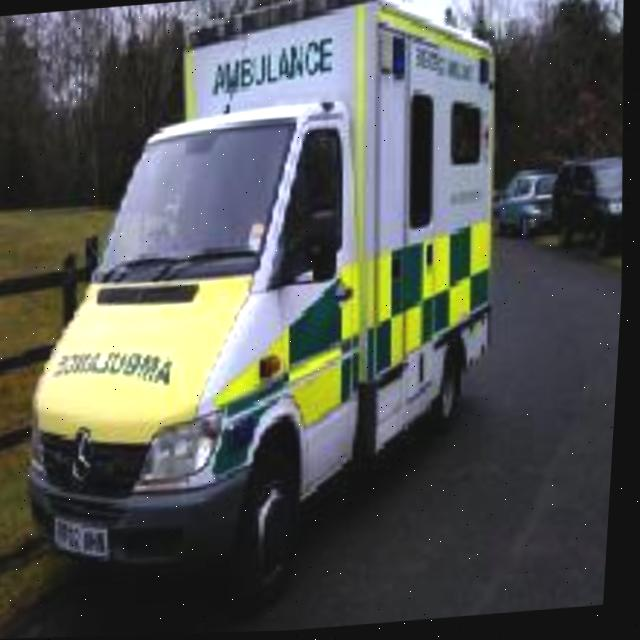emergency: (6, 0, 523, 587)
